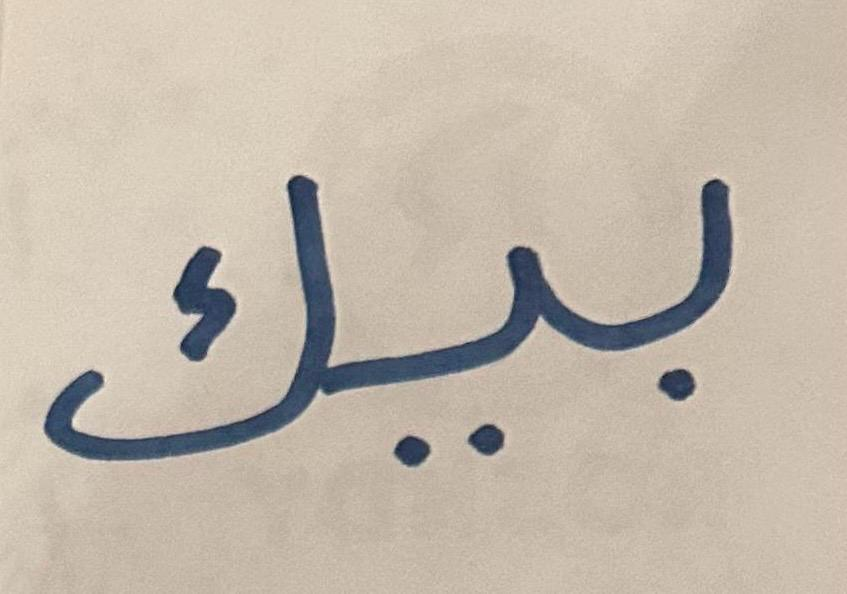beh: (577, 109, 803, 473)
khah: (35, 84, 352, 516)
zah: (354, 147, 573, 529)
